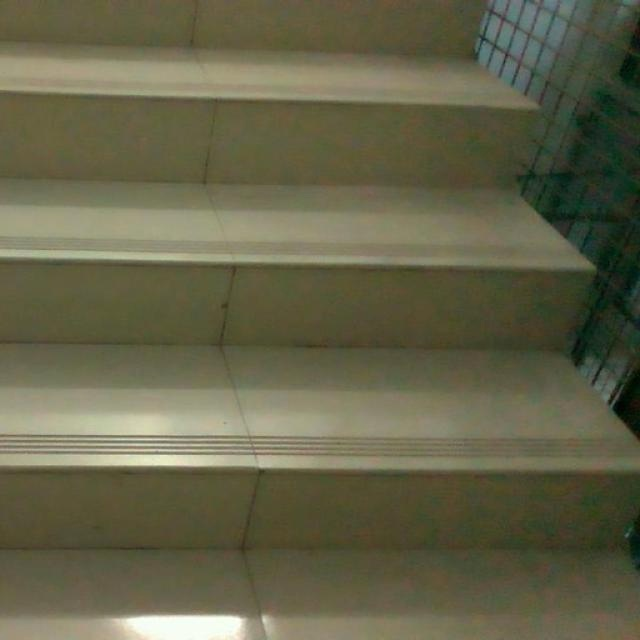stair: (0, 0, 622, 576)
